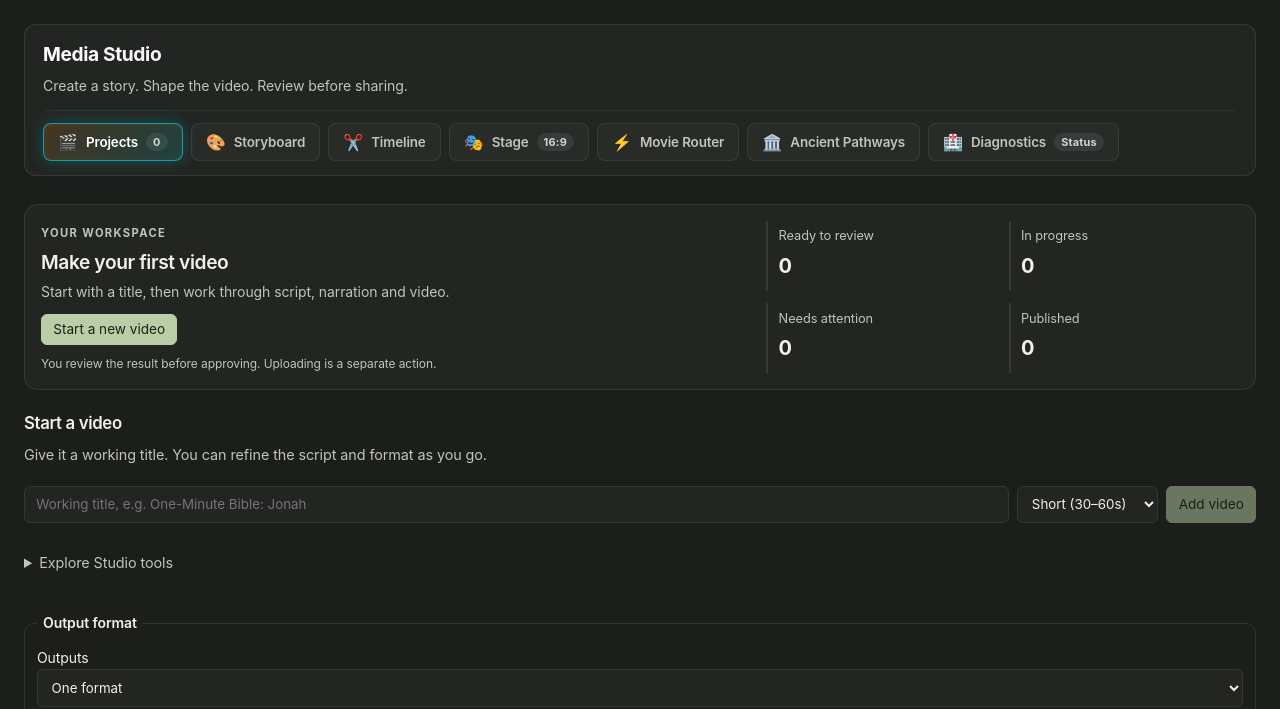
Test case: a refused creation preserves the working title for correction and retry
The width and height of the screenshot is (1280, 709).
Type "Keep this idea" into the field named "New video title" at {"x": 517, "y": 504}, box [24,486,1009,523]
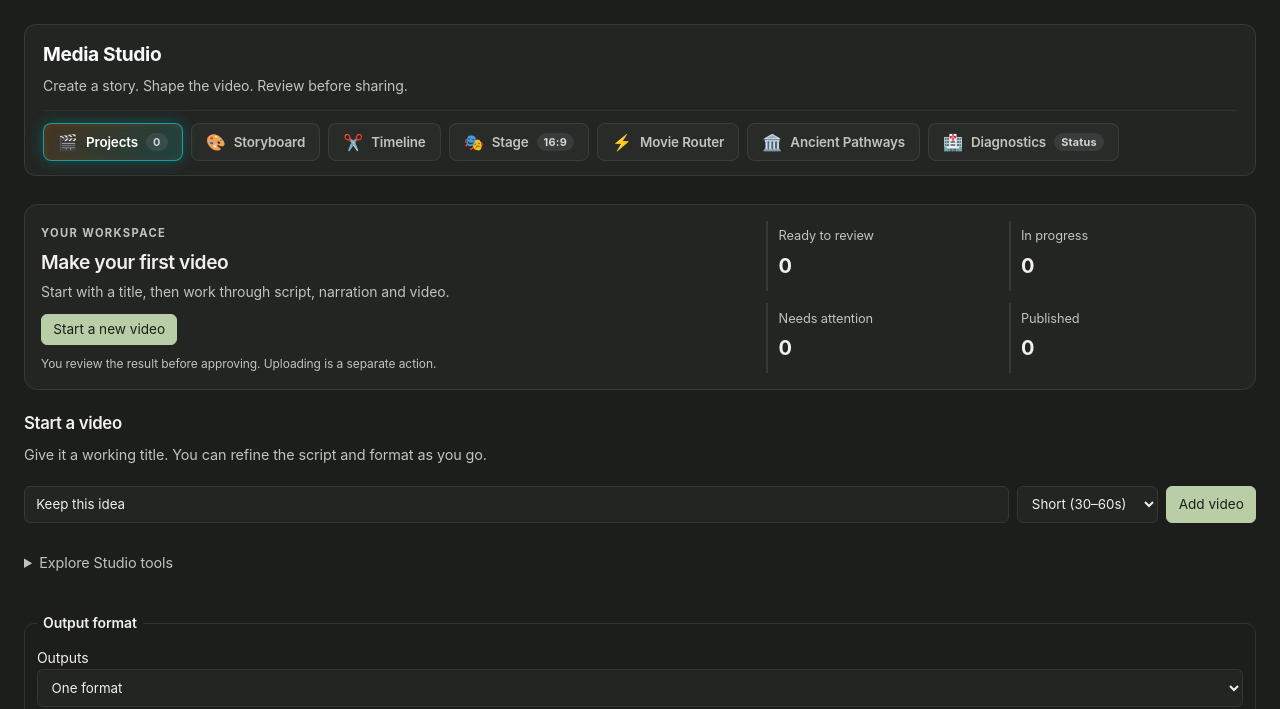
Click the button "Add video" at {"x": 1211, "y": 504}, box [1166,486,1256,523]
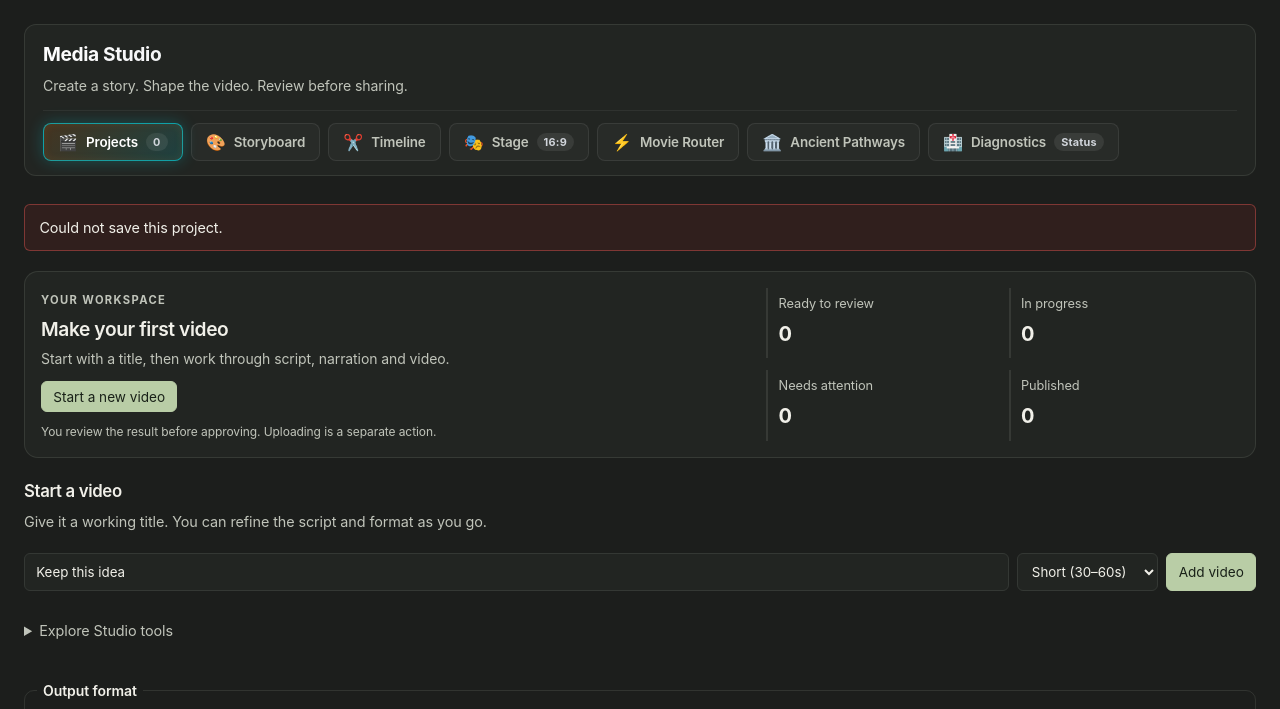
Expected: the message reads "Could not save this project.", [39,219,223,236]
